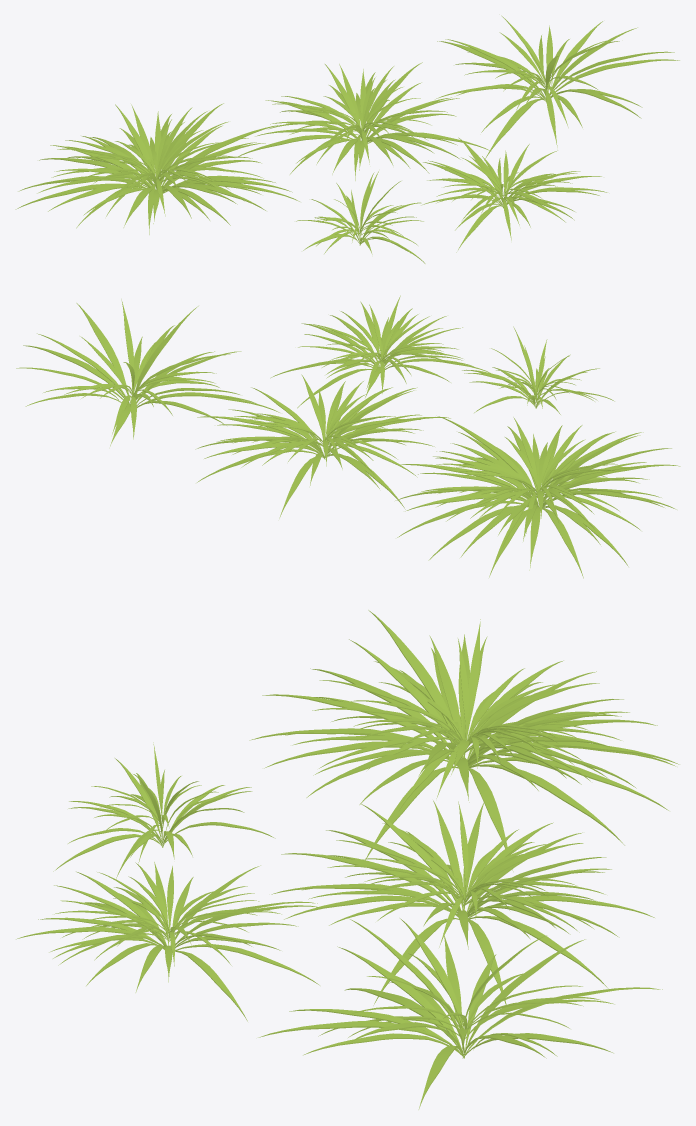
Rendered from low_poly_grass_lods_1.glb.
3 renders of one model, top to bottom at view 1: azimuth 30°, elevation 25°; view 2: azimuth 150°, elevation 25°; view 3: azimuth 270°, elevation 25°, orthographic. The views are drawn at different scales.
Parts seen in each view (by area): view 1: default_Material_0, default1_Material_0, default3_Material_0, default2_Material_0, default4_Material_0; view 2: default_Material_0, default1_Material_0, default3_Material_0, default2_Material_0, default4_Material_0; view 3: default_Material_0, default1_Material_0, default3_Material_0, default2_Material_0, default4_Material_0.
Boxes of the visible parts, x1,y1,x2,y2 form: default_Material_0: (15, 103, 299, 234); default1_Material_0: (238, 62, 489, 180); default3_Material_0: (435, 15, 679, 160); default2_Material_0: (421, 137, 607, 252); default4_Material_0: (296, 171, 425, 263); default_Material_0: (395, 416, 680, 578); default1_Material_0: (195, 374, 450, 518); default3_Material_0: (16, 299, 279, 446); default2_Material_0: (270, 295, 490, 408); default4_Material_0: (462, 326, 614, 414); default_Material_0: (249, 610, 679, 871); default1_Material_0: (271, 800, 654, 1012); default3_Material_0: (258, 918, 662, 1109); default2_Material_0: (16, 862, 321, 1021); default4_Material_0: (53, 742, 275, 878).
Size of the model in its own units: 0.4752 by 0.0637 by 0.2887.
Materials: 1 (1 with a texture image).
